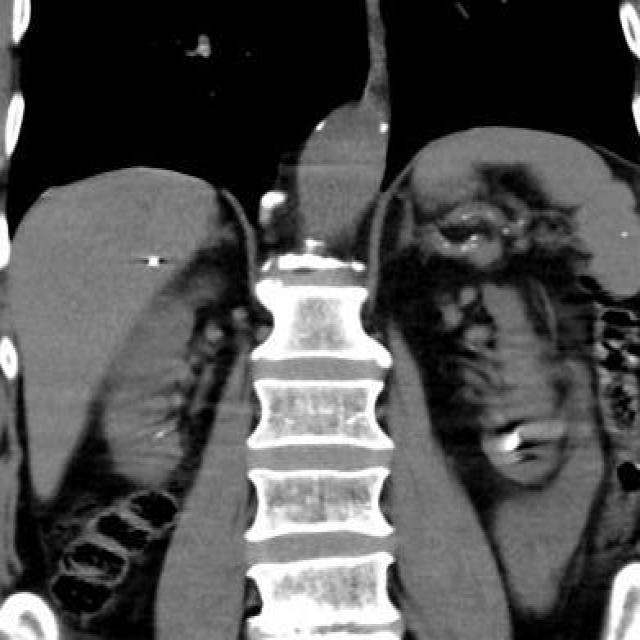Tas_Var: (494, 427, 527, 455), (149, 429, 170, 443)
